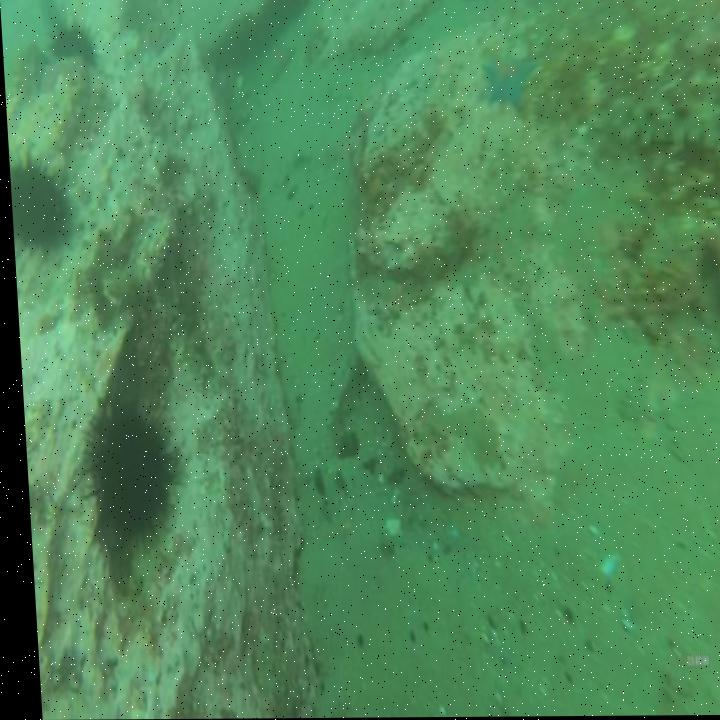echinus: (56, 374, 190, 581), (7, 145, 79, 252), (45, 14, 103, 72)
holothurian: (598, 93, 720, 160)
starfish: (477, 42, 540, 116)
